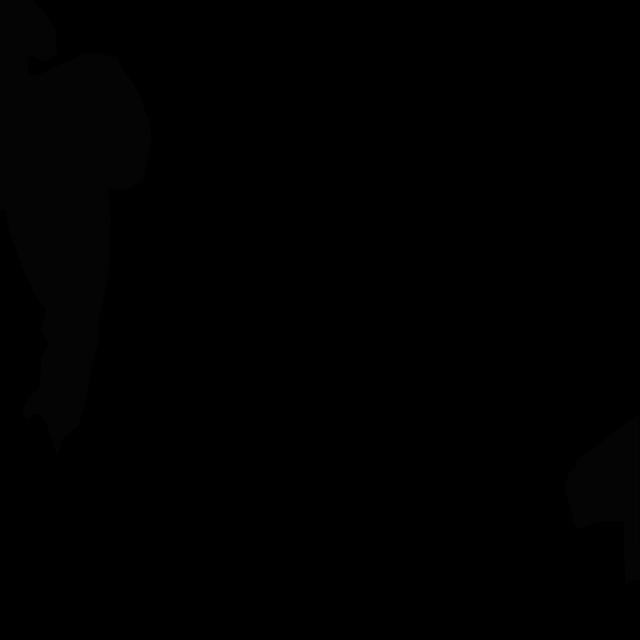soft_plastic: (565, 414, 640, 586)
